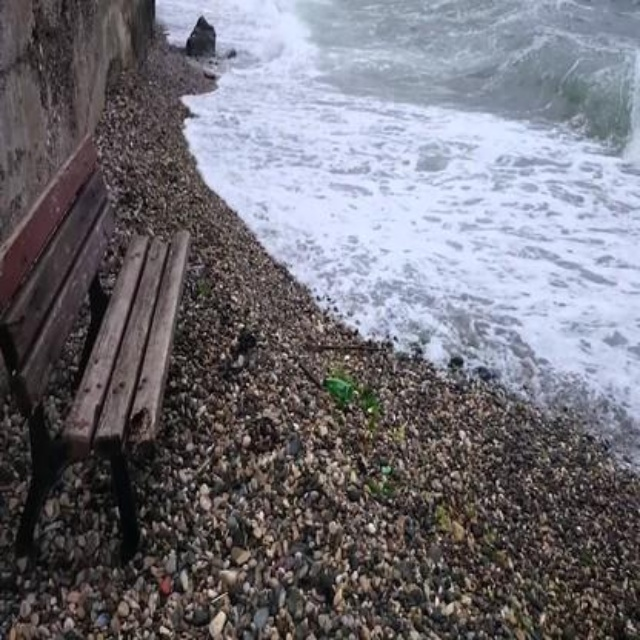obstacle: (6, 125, 192, 551)
